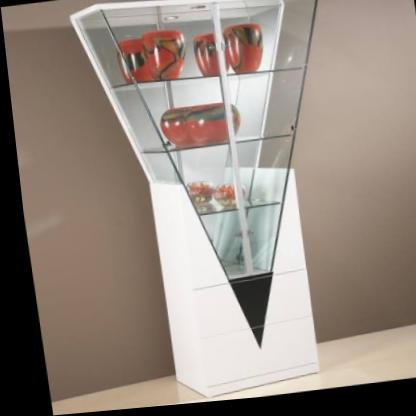Cupboard: (58, 0, 371, 408)
